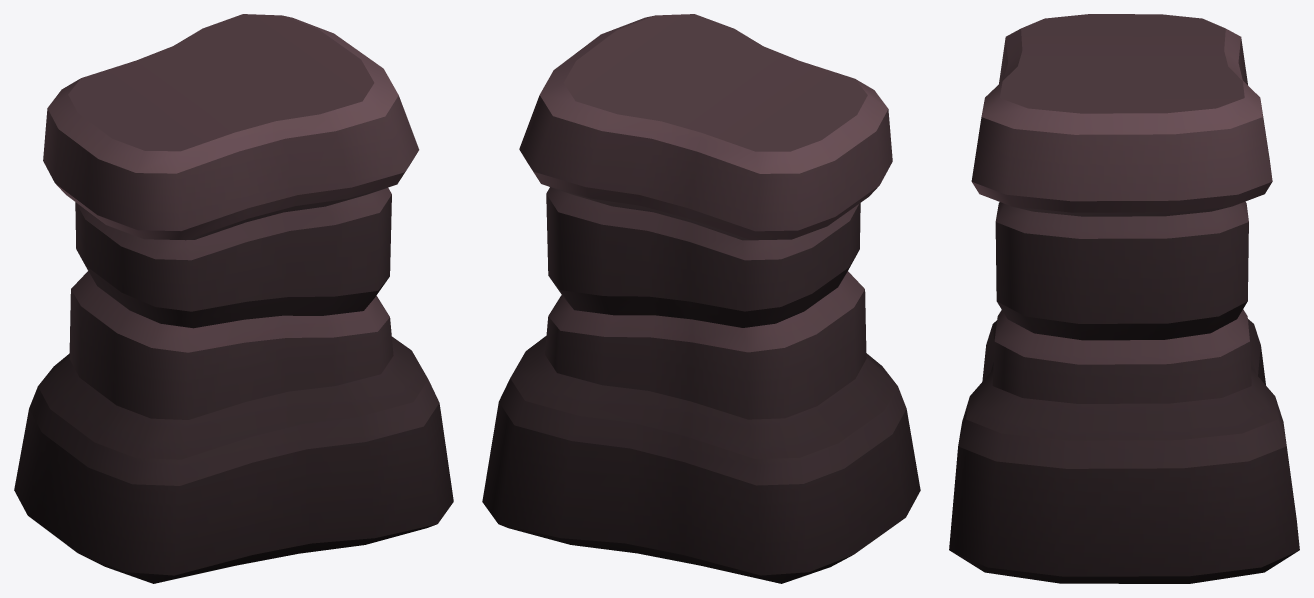
The model's file is rock_big_B_dark_5.glb.
3 renders of one model, left to right at view 1: azimuth 30°, elevation 25°; view 2: azimuth 150°, elevation 25°; view 3: azimuth 270°, elevation 25°, orthographic. The views are drawn at different scales.
Parts seen in each view (by area): view 1: rock_big_B_dark_5; view 2: rock_big_B_dark_5; view 3: rock_big_B_dark_5.
Boxes of the visible parts, left/top/right/bottom form: rock_big_B_dark_5: left=14, top=14, right=453, bottom=583; rock_big_B_dark_5: left=482, top=14, right=920, bottom=583; rock_big_B_dark_5: left=949, top=14, right=1299, bottom=583.
Size of the model in its own units: 6.49 by 7.76 by 5.47.
Materials: 1 (1 with a texture image).
